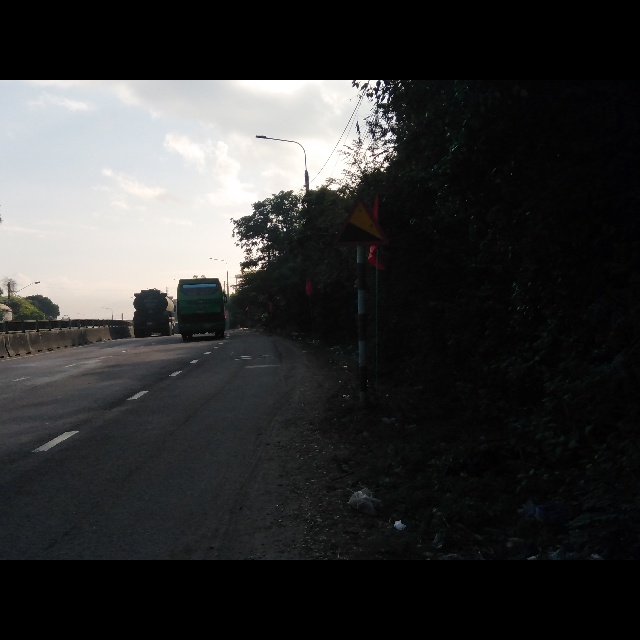Dốc lên nguy hiểm: (335, 200, 384, 248)
